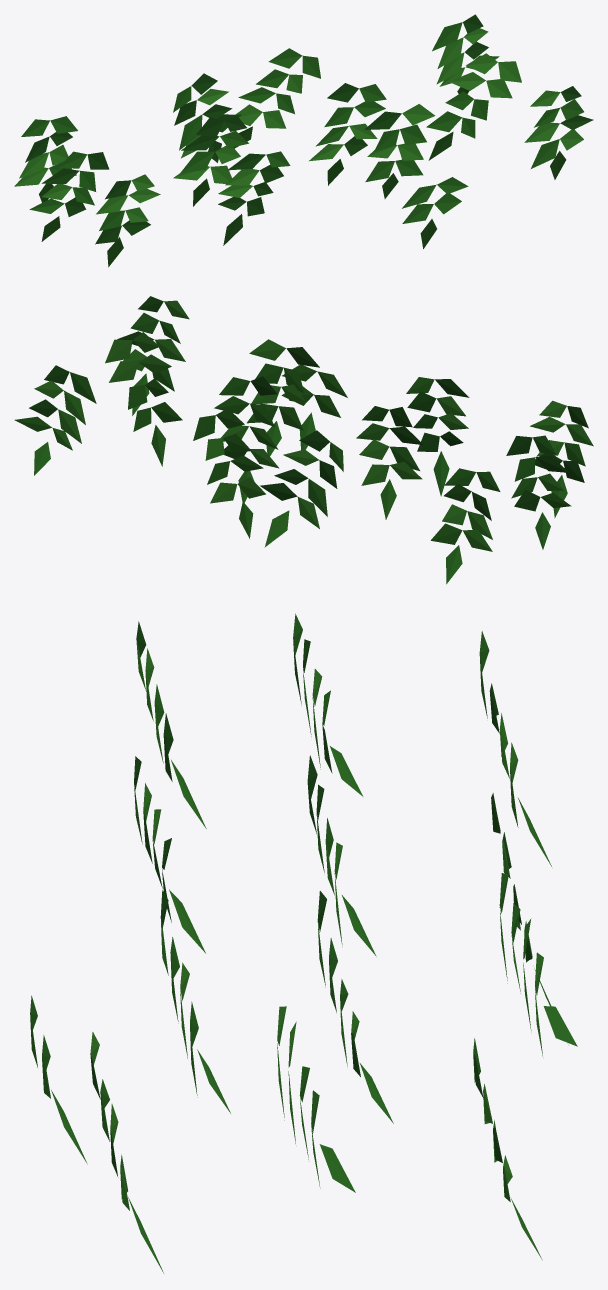
The picture shows the model from 3 angles, top to bottom: view 1: azimuth 30°, elevation 25°; view 2: azimuth 150°, elevation 25°; view 3: azimuth 270°, elevation 25°; orthographic projection. The views are drawn at different scales.
Visible parts, largest first — view 1: r15c3_l01; view 2: r15c3_l01; view 3: r15c3_l01.
Boxes of the visible parts, <box> form: r15c3_l01: <box>14,14,593,267</box>; r15c3_l01: <box>14,296,593,584</box>; r15c3_l01: <box>30,613,577,1273</box>.
Bounding box in the file's own units: 2.16 × 0.5366 × 0.9999.
